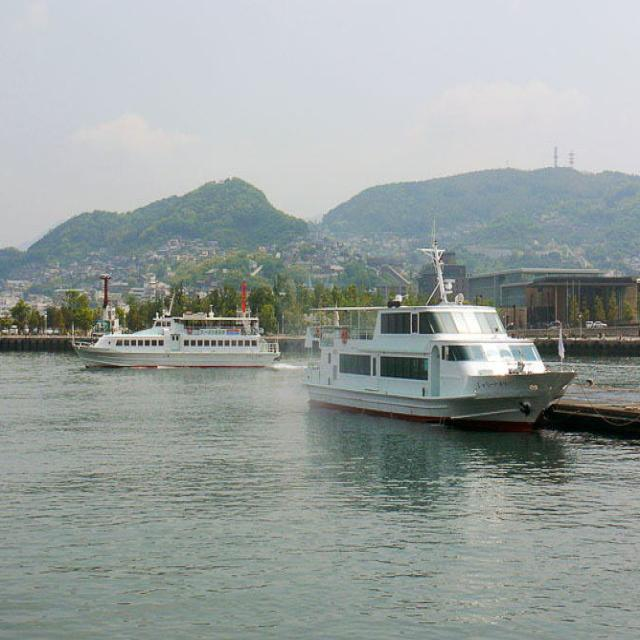houseboat: (319, 270, 560, 392), (80, 302, 274, 388)
